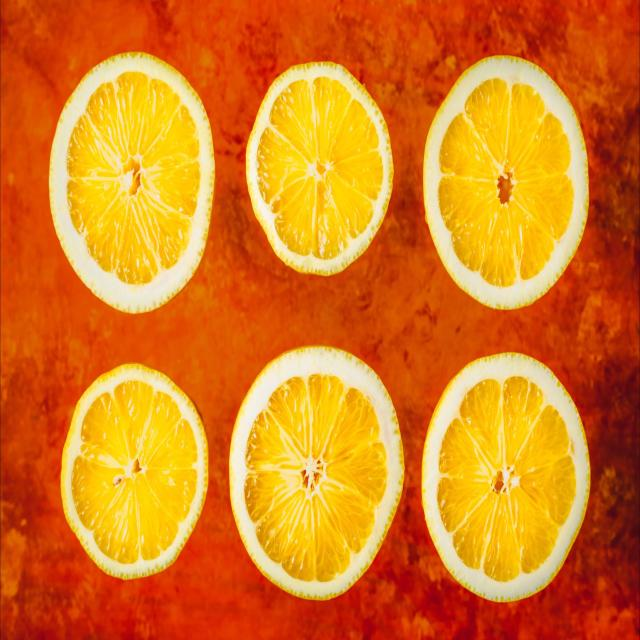lemon: (225, 335, 409, 606), (418, 337, 596, 610), (420, 52, 592, 315)
